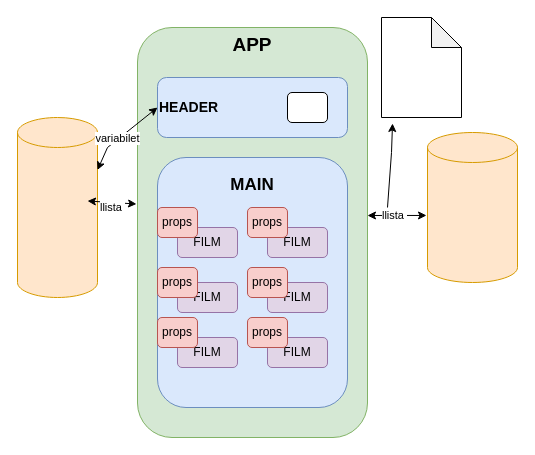
Some shapes in this 535 by 455 pixel diagram are drawn without their labels. The shapes that lost their labels are listed below. From the top down, each one's centre as x and y in pixels, then its label:
At (421,67): "lista di film dalla api che riceverà l'app".
At (307,107): "input".
At (57,207): "STORE -lista film -variabile input".
At (472,207): "API".
